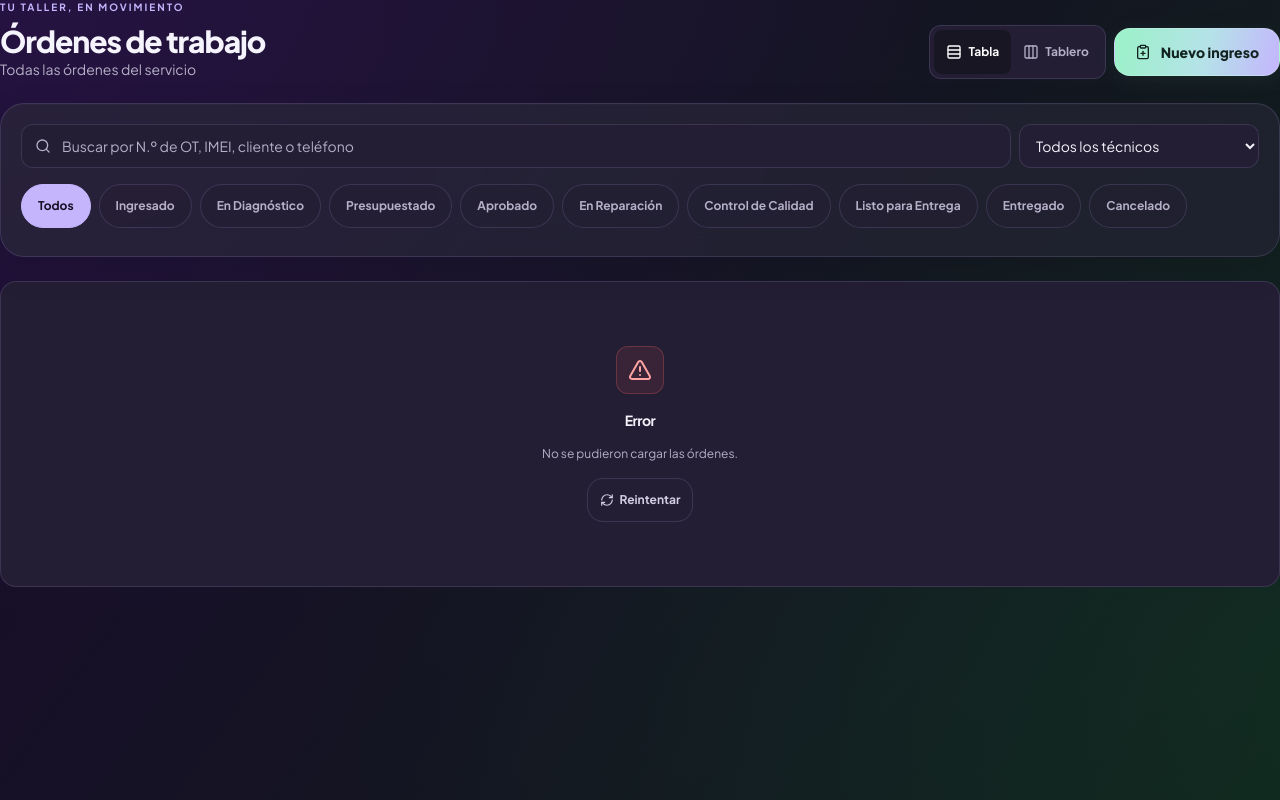
Test: WorkOrdersPage (US-F02) › shows an error state with retry [003/RF-7.4]
Click the button "Reintentar": (640, 500) [587,478,693,522]
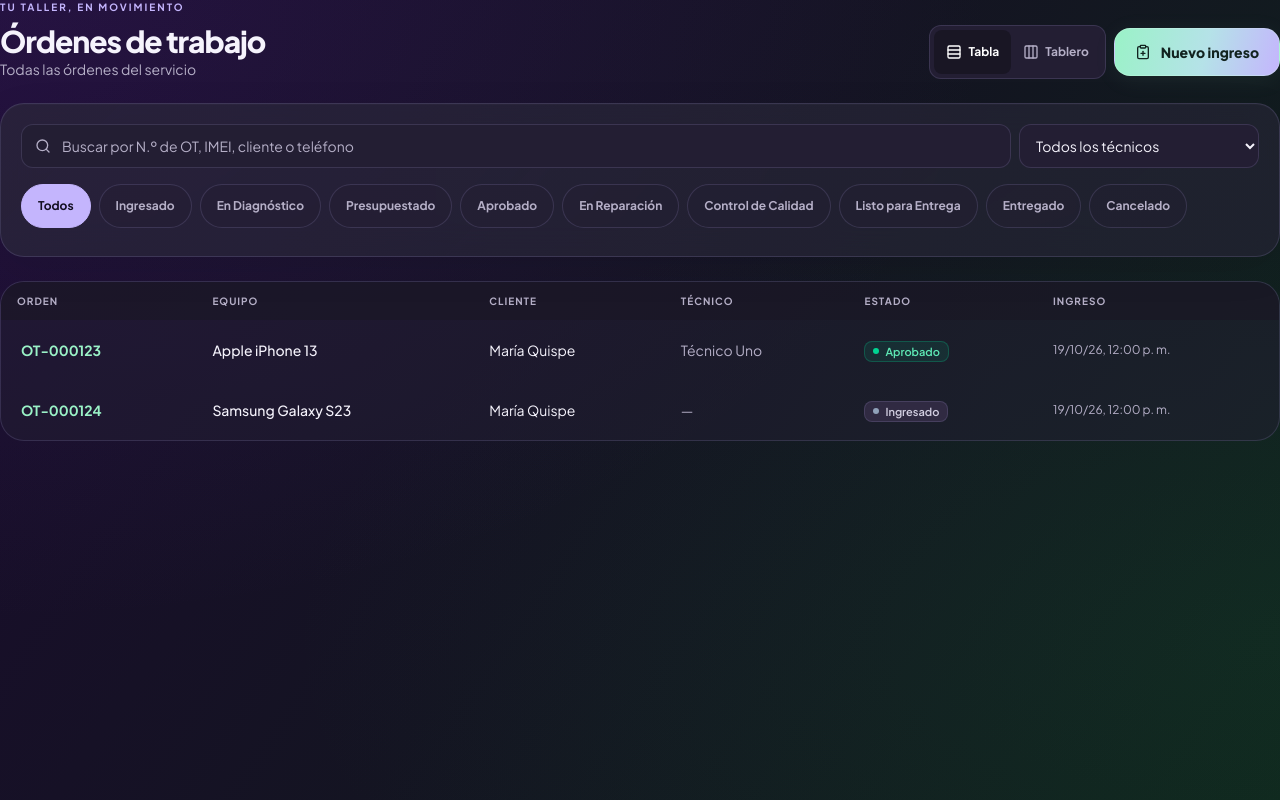
expect the link "OT-000123" is shown: met, box [21,341,101,359]
